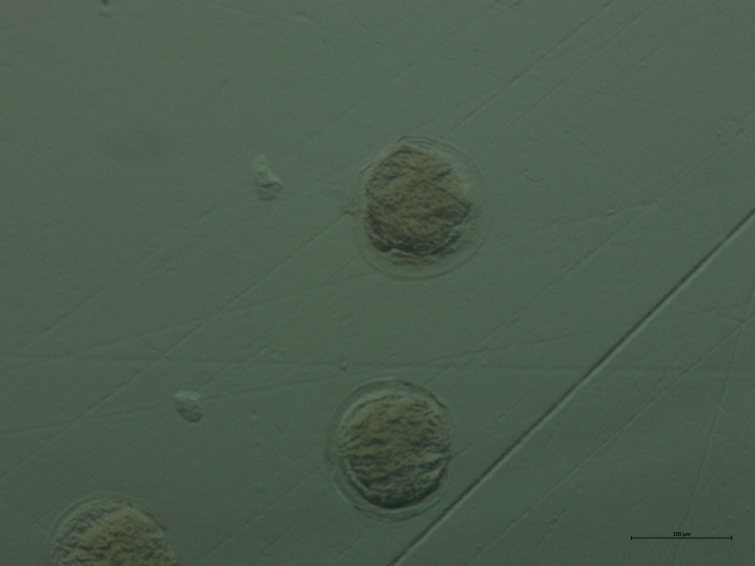oyster: (310, 372, 467, 523), (352, 130, 500, 288)
